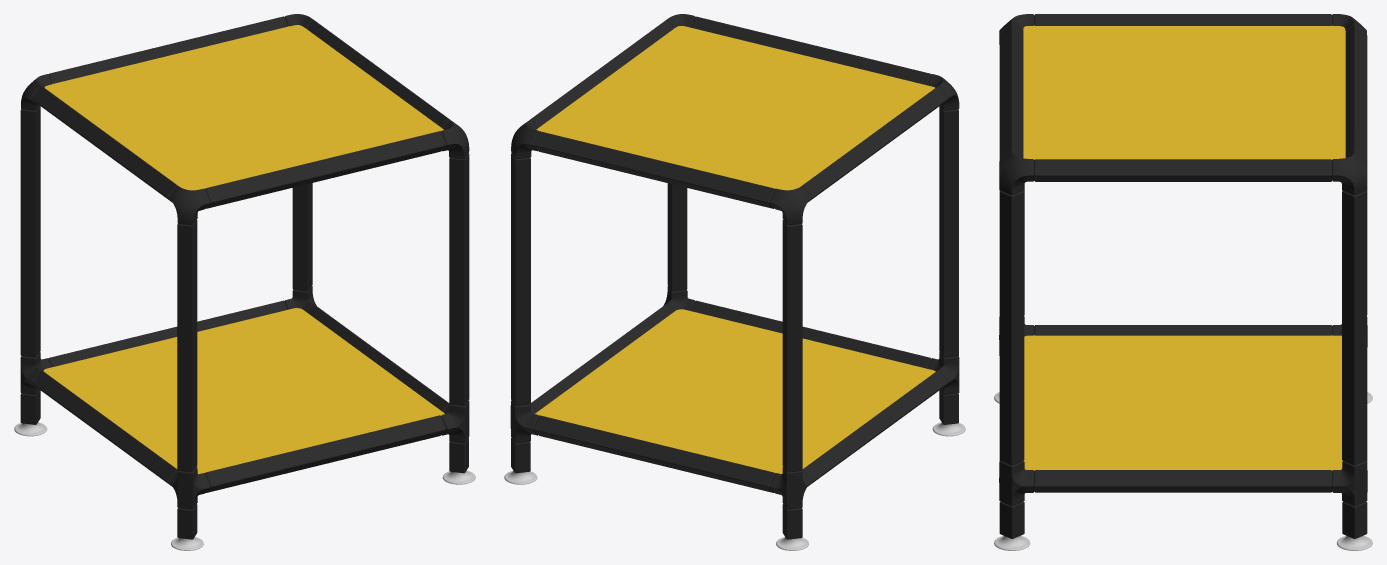
3 renders of one model, left to right at view 1: azimuth 30°, elevation 25°; view 2: azimuth 150°, elevation 25°; view 3: azimuth 270°, elevation 25°, orthographic. The views are drawn at different scales.
Parts seen in each view (by area): view 1: 329x329x329; view 2: 329x329x329; view 3: 329x329x329.
Boxes of the visible parts, x1,y1,x2,y2 form: 329x329x329: [14, 14, 475, 550]; 329x329x329: [504, 14, 965, 550]; 329x329x329: [994, 14, 1372, 550].
Size of the model in its own units: 0.4189 by 0.4683 by 0.4182.
